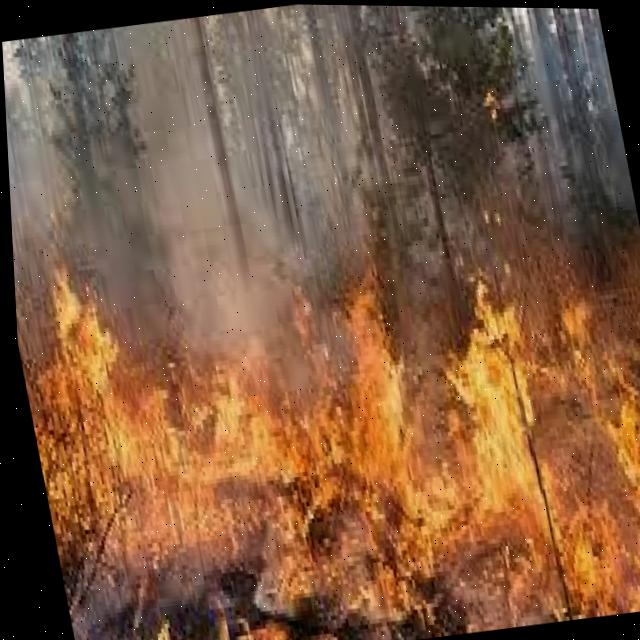fire: (13, 228, 640, 640)
smoke: (2, 3, 452, 356)
